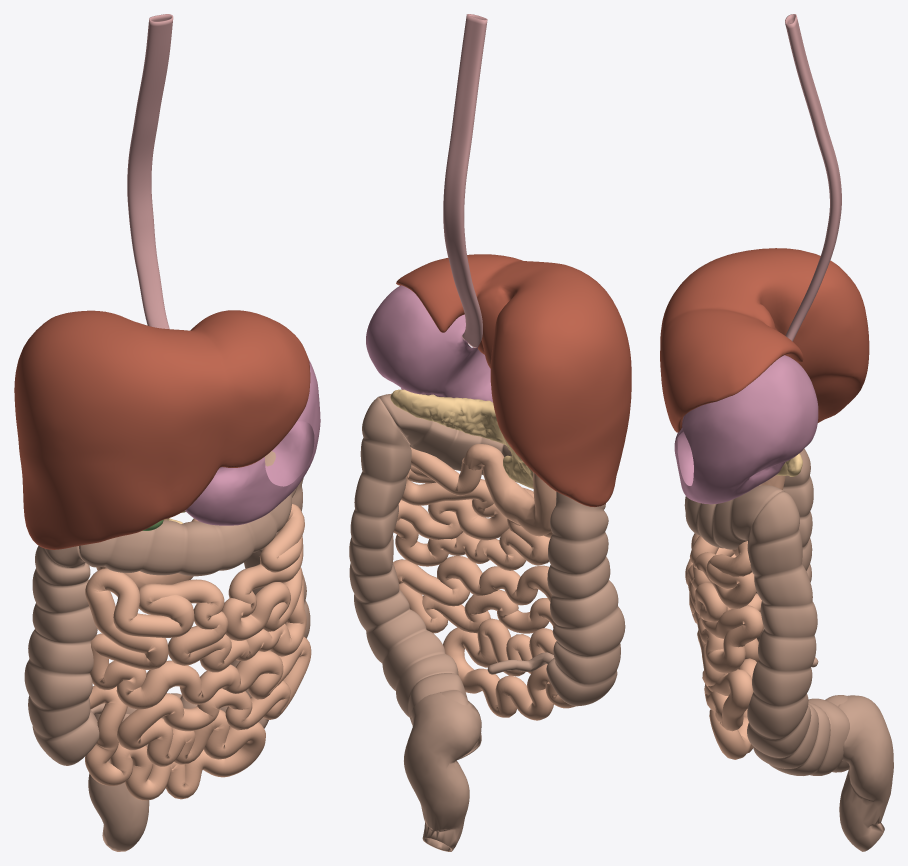
Rendered from z-anatomy-1.2.0-digestive.glb.
3 views of the same model, side by side, from view 1: azimuth 30°, elevation 25°; view 2: azimuth 150°, elevation 25°; view 3: azimuth 270°, elevation 25° (orthographic). The views are drawn at different scales.
Visible parts, largest first — view 1: liver__Liver, small-intestine-jejunum__Jejunum, large-intestine-ascending-colon__Ascending colon, large-intestine-transverse-colon__Transverse colon, oesophagus__Oesophagus, stomach__Stomach, large-intestine-sigmoid-colon__Sigmoid colon, large-intestine-descending-colon__Descending colon, small-intestine-duodenum__Duodenum; view 2: liver__Liver, small-intestine-jejunum__Jejunum, large-intestine-descending-colon__Descending colon, large-intestine-ascending-colon__Ascending colon, stomach__Stomach, large-intestine-sigmoid-colon__Sigmoid colon, oesophagus__Oesophagus, pancreas__Pancreas, small-intestine-duodenum__Duodenum, large-intestine-transverse-colon__Transverse colon, large-intestine-vermiform-appendix__Vermiform appendix; view 3: liver__Liver, large-intestine-descending-colon__Descending colon, stomach__Stomach, small-intestine-jejunum__Jejunum, large-intestine-sigmoid-colon__Sigmoid colon, oesophagus__Oesophagus, large-intestine-transverse-colon__Transverse colon, large-intestine-ascending-colon__Ascending colon.
Boxes of the visible parts, x1=… form: liver__Liver: x1=14, y1=310, x2=310, y2=549; small-intestine-jejunum__Jejunum: x1=85, y1=504, x2=311, y2=800; large-intestine-ascending-colon__Ascending colon: x1=24, y1=545, x2=99, y2=765; large-intestine-transverse-colon__Transverse colon: x1=79, y1=451, x2=297, y2=576; oesophagus__Oesophagus: x1=127, y1=14, x2=173, y2=329; stomach__Stomach: x1=185, y1=360, x2=320, y2=525; large-intestine-sigmoid-colon__Sigmoid colon: x1=88, y1=714, x2=149, y2=851; large-intestine-descending-colon__Descending colon: x1=126, y1=478, x2=310, y2=746; small-intestine-duodenum__Duodenum: x1=96, y1=518, x2=198, y2=588; liver__Liver: x1=396, y1=254, x2=631, y2=507; small-intestine-jejunum__Jejunum: x1=393, y1=447, x2=576, y2=720; large-intestine-descending-colon__Descending colon: x1=349, y1=397, x2=481, y2=759; large-intestine-ascending-colon__Ascending colon: x1=546, y1=491, x2=625, y2=706; stomach__Stomach: x1=366, y1=285, x2=492, y2=402; large-intestine-sigmoid-colon__Sigmoid colon: x1=404, y1=692, x2=481, y2=851; oesophagus__Oesophagus: x1=443, y1=14, x2=487, y2=347; pancreas__Pancreas: x1=390, y1=389, x2=533, y2=488; small-intestine-duodenum__Duodenum: x1=463, y1=444, x2=556, y2=536; large-intestine-transverse-colon__Transverse colon: x1=378, y1=393, x2=517, y2=482; large-intestine-vermiform-appendix__Vermiform appendix: x1=487, y1=652, x2=554, y2=674; liver__Liver: x1=660, y1=248, x2=869, y2=432; large-intestine-descending-colon__Descending colon: x1=747, y1=491, x2=849, y2=775; stomach__Stomach: x1=674, y1=355, x2=818, y2=504; small-intestine-jejunum__Jejunum: x1=685, y1=533, x2=763, y2=759; large-intestine-sigmoid-colon__Sigmoid colon: x1=838, y1=695, x2=893, y2=851; oesophagus__Oesophagus: x1=785, y1=14, x2=841, y2=341; large-intestine-transverse-colon__Transverse colon: x1=684, y1=485, x2=783, y2=549; large-intestine-ascending-colon__Ascending colon: x1=756, y1=448, x2=813, y2=642.
Size of the model in its own units: 0.229 by 0.6718 by 0.1712.
